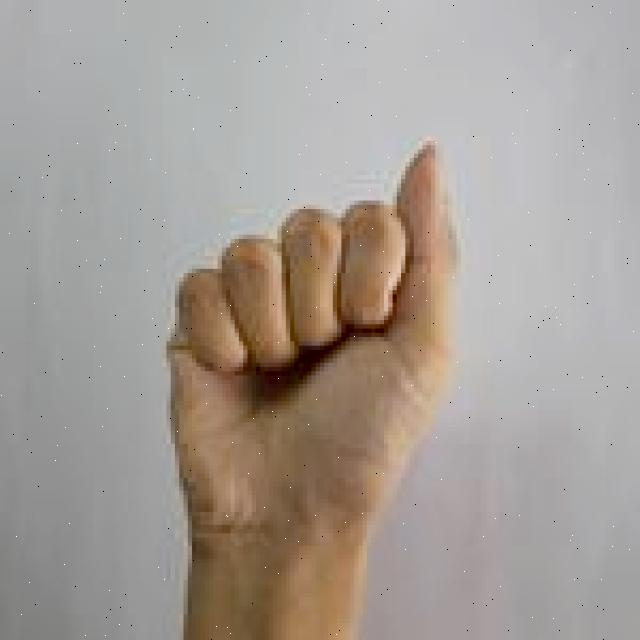A: (158, 127, 477, 640)
